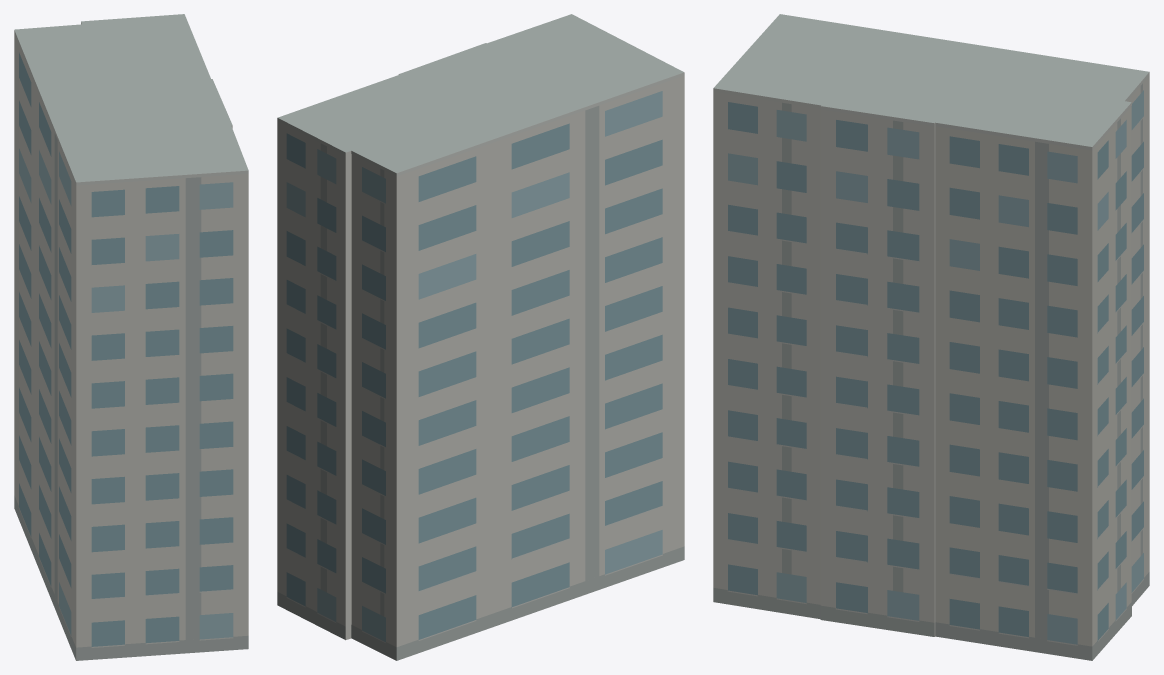
The model's file is survey-upis-32581526.glb.
The picture shows the model from 3 angles, left to right: view 1: azimuth 30°, elevation 25°; view 2: azimuth 150°, elevation 25°; view 3: azimuth 270°, elevation 25°; orthographic projection. The views are drawn at different scales.
Visible parts, largest first — view 1: survey-upis-32581526.tmp; view 2: survey-upis-32581526.tmp; view 3: survey-upis-32581526.tmp.
Boxes of the visible parts, x1=… form: survey-upis-32581526.tmp: x1=14, y1=14, x2=248, y2=660; survey-upis-32581526.tmp: x1=277, y1=14, x2=684, y2=660; survey-upis-32581526.tmp: x1=713, y1=14, x2=1149, y2=660.
Bounding box in the file's own units: 19.67 × 35.4 × 27.25.
